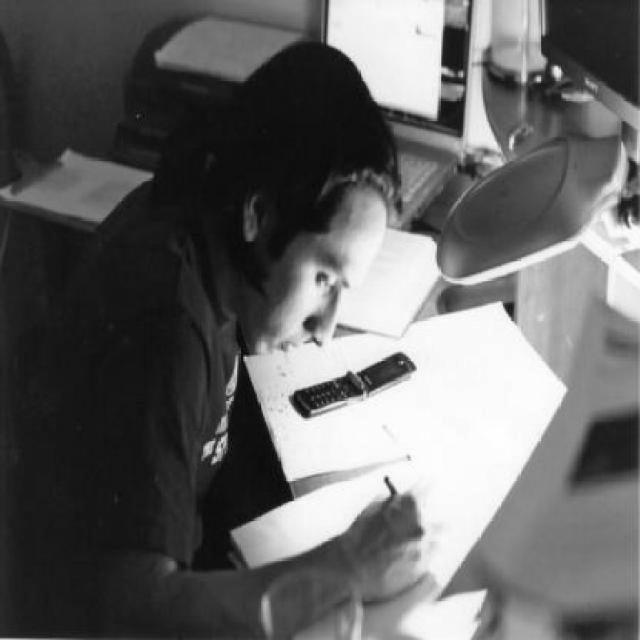fake: (290, 325, 412, 433)
